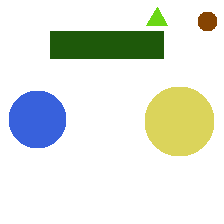circle: (145, 87, 213, 155), (9, 91, 65, 147), (198, 12, 216, 30)
rectangle: (50, 31, 163, 58)
triangle: (146, 7, 167, 25)
